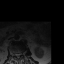CCS_normal: (17, 52, 19, 61)
LFS_stenosis: (21, 51, 23, 56)
LLS_normal: (19, 51, 21, 57)
RFS_stenosis: (13, 51, 15, 57)
RLS_normal: (15, 51, 17, 58)
